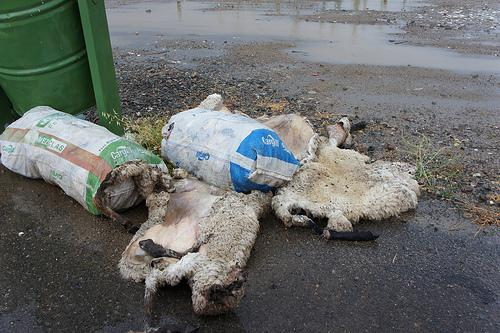Container: (0, 0, 129, 120)
